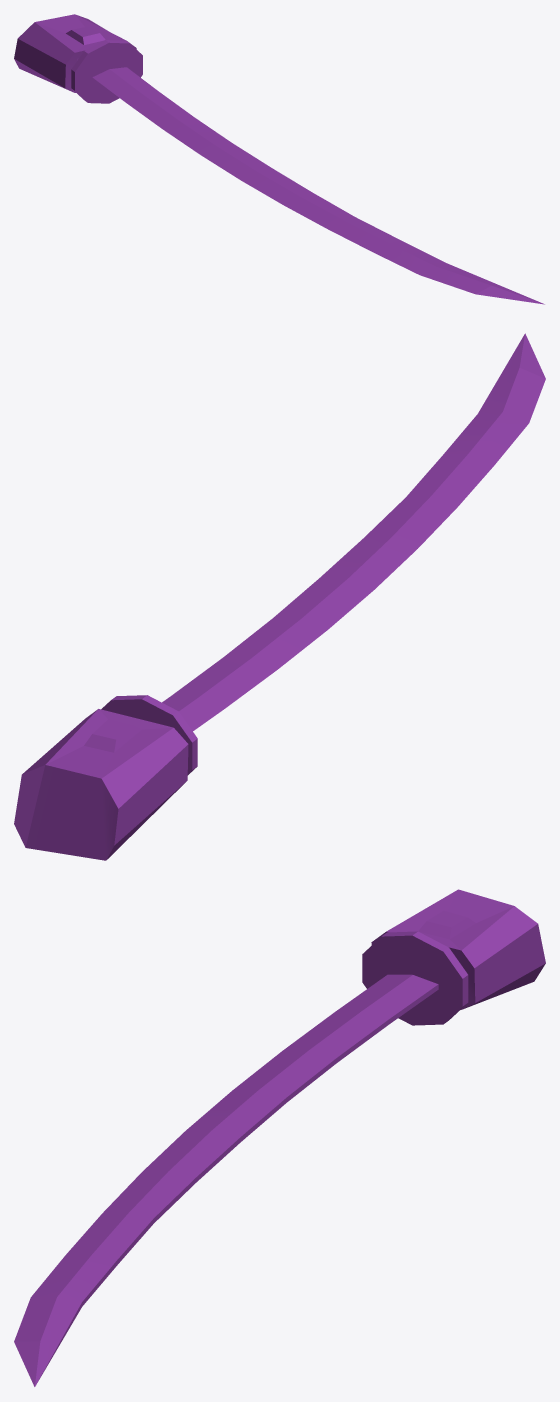
Rendered from Sword.fbx.
3 renders of one model, top to bottom at view 1: azimuth 30°, elevation 25°; view 2: azimuth 150°, elevation 25°; view 3: azimuth 330°, elevation 25°, orthographic. The views are drawn at different scales.
Visible parts, largest first — view 1: sword, L_SWORD; view 2: sword, L_SWORD; view 3: sword, L_SWORD.
Boxes of the visible parts, box(x1,y1,x2,y2) form: sword: box(71, 40, 544, 304); L_SWORD: box(14, 14, 136, 92); sword: box(101, 333, 545, 775); L_SWORD: box(14, 709, 188, 860); sword: box(14, 931, 468, 1386); L_SWORD: box(371, 889, 545, 1009).
Bounding box in the file's own units: 6.39 × 3.24 × 35.36.
